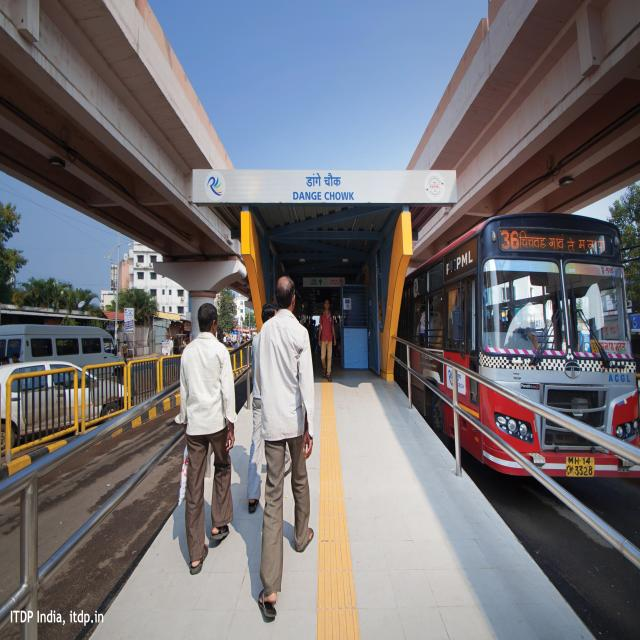body: (255, 274, 317, 622), (172, 300, 239, 576), (225, 442, 304, 604), (417, 292, 568, 368), (246, 303, 292, 514), (172, 488, 223, 574), (318, 296, 337, 383), (303, 310, 314, 356), (0, 350, 23, 369), (239, 330, 255, 346), (334, 313, 341, 348), (312, 318, 318, 356), (121, 340, 130, 365), (316, 322, 322, 356), (291, 309, 303, 325), (167, 336, 174, 360), (182, 337, 189, 347), (223, 335, 227, 347), (234, 341, 238, 349)
